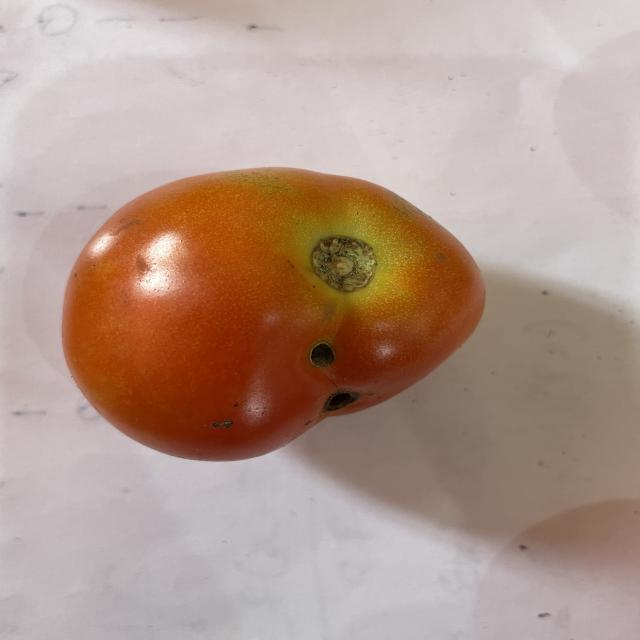fruitworm_bore: (301, 339, 366, 418)
